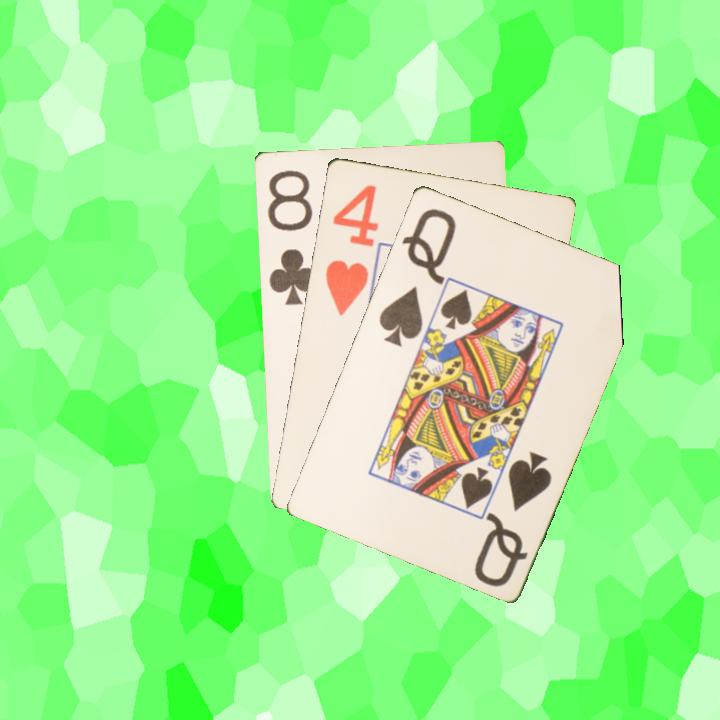4h: (321, 180, 380, 318)
8c: (263, 166, 320, 308)
Qs: (374, 204, 459, 349), (470, 447, 555, 590)
